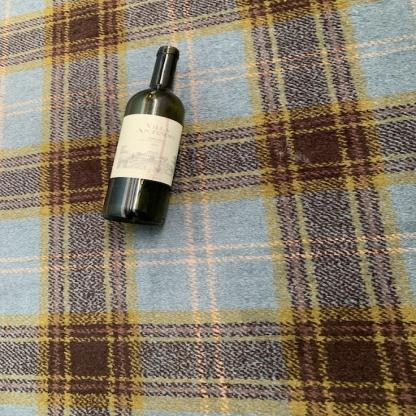trash: (98, 43, 190, 229)
